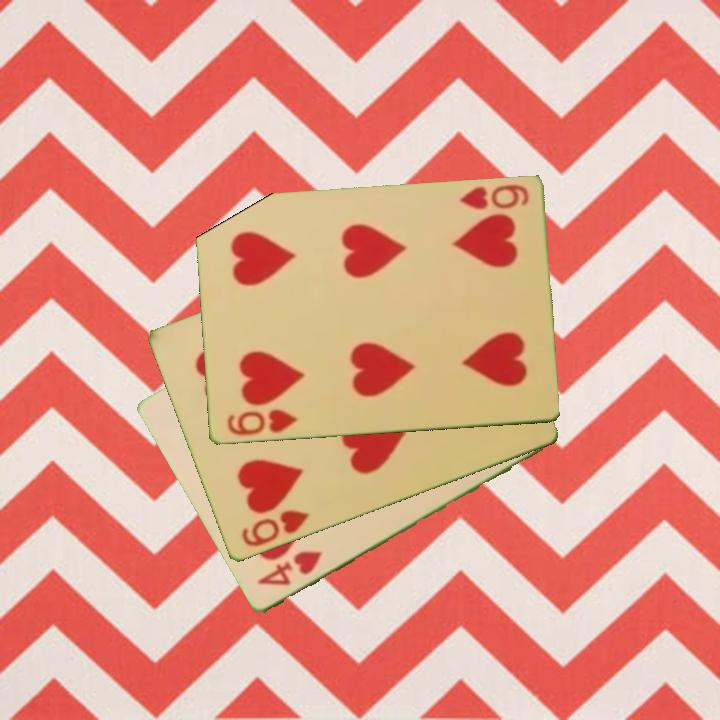4h: (253, 547, 325, 590)
6h: (237, 506, 312, 550), (223, 406, 300, 439), (455, 181, 532, 213)
